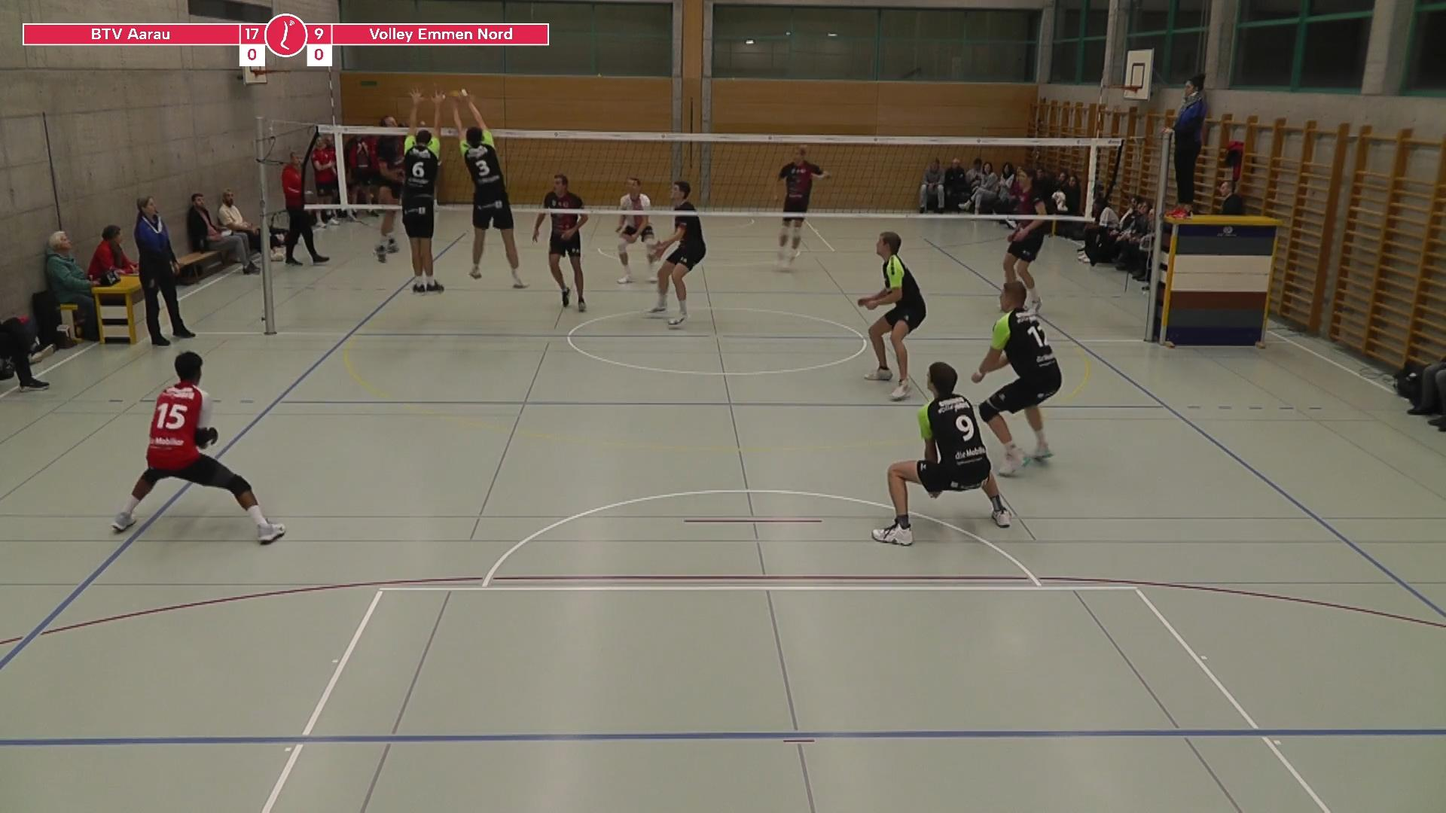attacco: (368, 100, 417, 266)
muro: (447, 90, 524, 291), (396, 89, 463, 293)
